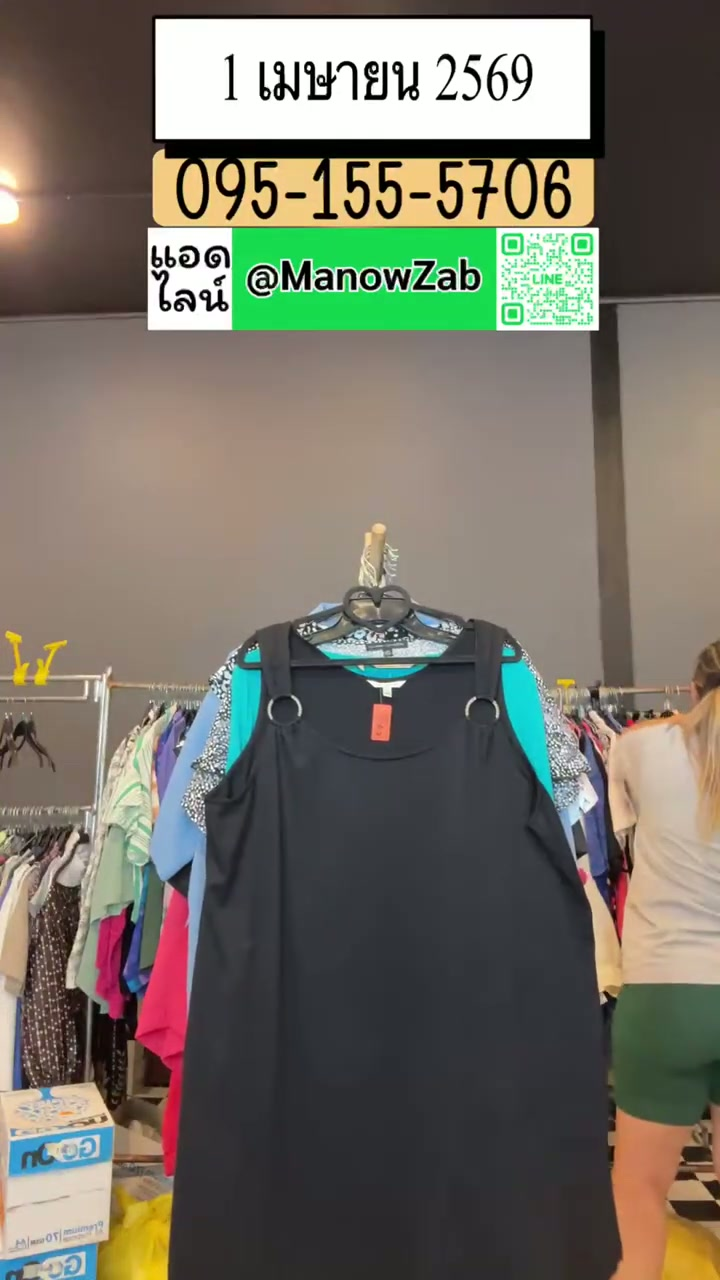display_shirt: (169, 588, 619, 1279)
